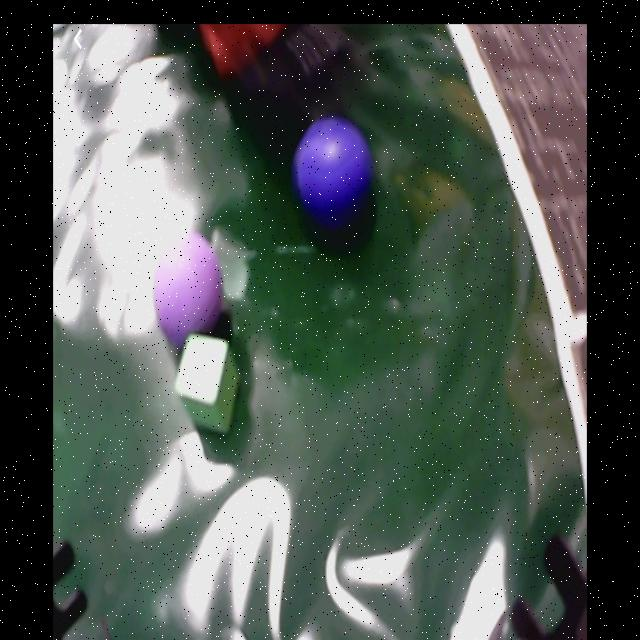ball: (153, 235, 223, 342), (295, 118, 370, 215)
